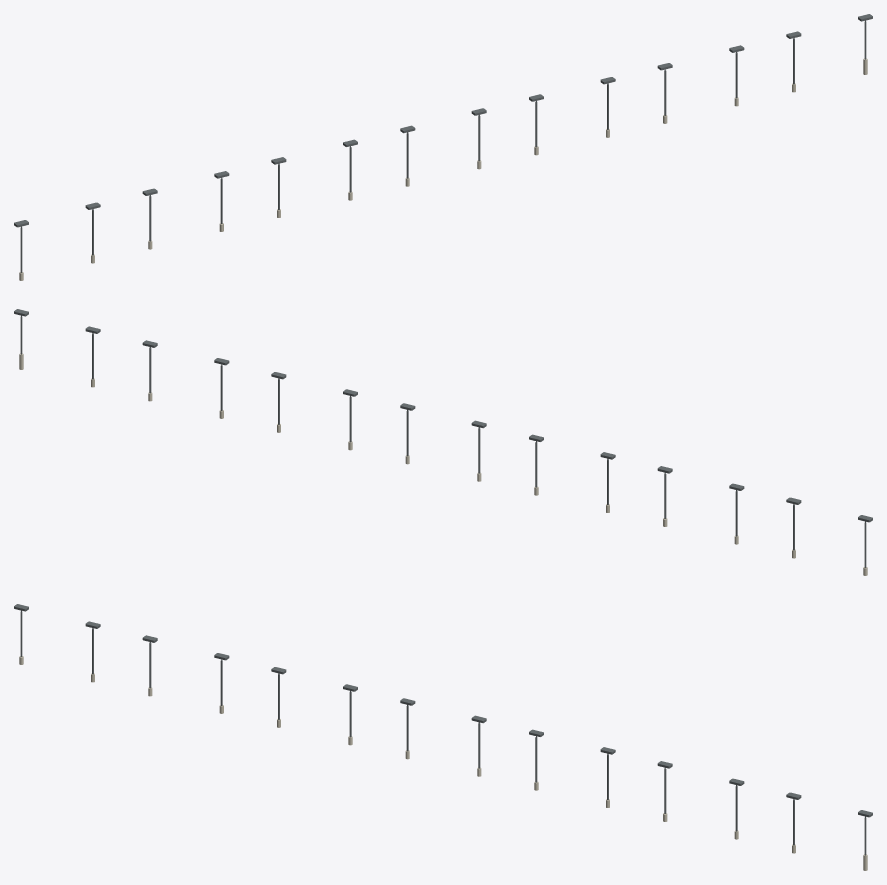
3 views of the same model, one above another, from view 1: azimuth 30°, elevation 25°; view 2: azimuth 150°, elevation 25°; view 3: azimuth 330°, elevation 25° (orthographic).
Parts seen in each view (by area): view 1: buildings_s_-6_-1_Dark_Metal, buildings_s_-6_-1_Warm_Limestone; view 2: buildings_s_-6_-1_Dark_Metal, buildings_s_-6_-1_Warm_Limestone; view 3: buildings_s_-6_-1_Dark_Metal, buildings_s_-6_-1_Warm_Limestone.
Part boxes in pixels (<box>): buildings_s_-6_-1_Dark_Metal: <box>14,14,872,272</box>; buildings_s_-6_-1_Warm_Limestone: <box>19,58,867,280</box>; buildings_s_-6_-1_Dark_Metal: <box>14,309,872,567</box>; buildings_s_-6_-1_Warm_Limestone: <box>19,353,867,575</box>; buildings_s_-6_-1_Dark_Metal: <box>14,604,872,855</box>; buildings_s_-6_-1_Warm_Limestone: <box>19,656,867,870</box>.
Size of the model in its own units: 120 by 7.68 by 0.9.
